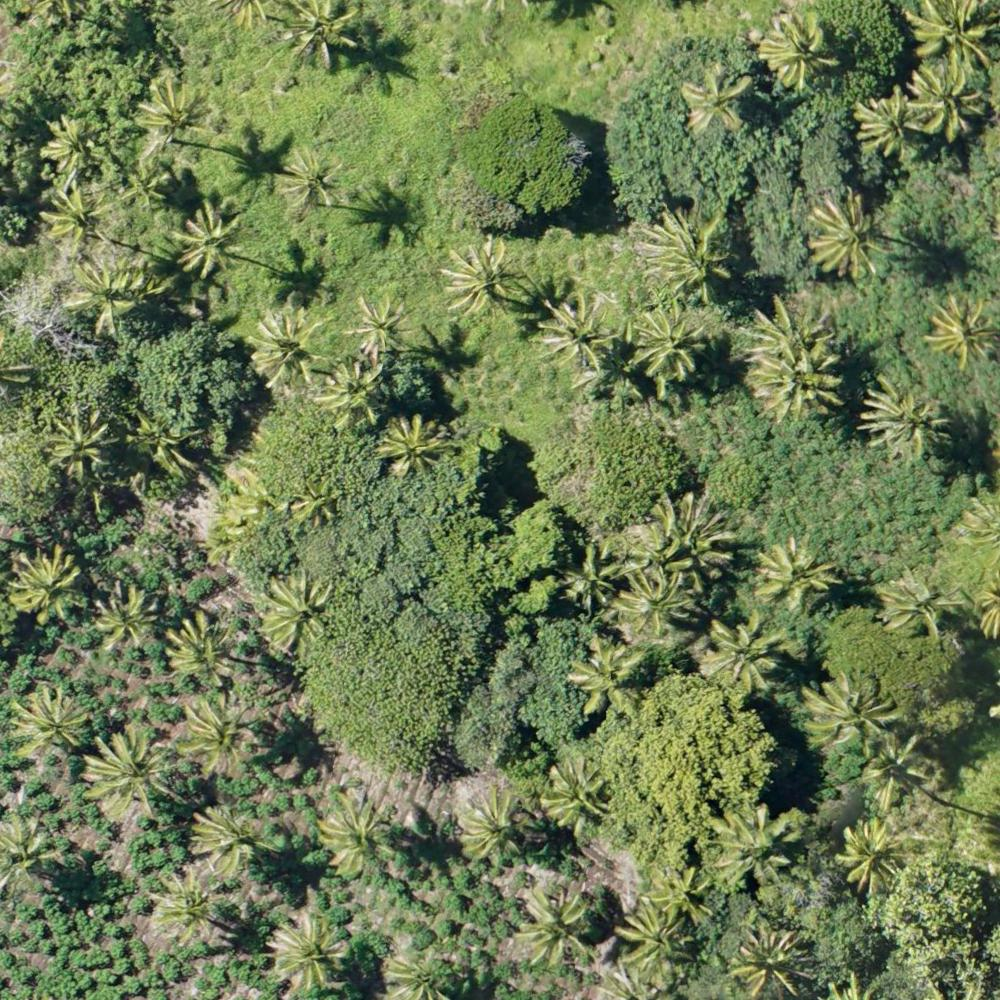Palm: (635, 207, 731, 301), (85, 732, 178, 826), (716, 805, 809, 891), (864, 368, 953, 457), (643, 492, 736, 576), (803, 674, 901, 752), (759, 343, 848, 422), (806, 191, 888, 276), (319, 789, 397, 877), (902, 1, 998, 72), (615, 896, 695, 978), (178, 695, 261, 773), (568, 636, 651, 714), (254, 573, 332, 655), (904, 65, 986, 143), (706, 618, 787, 696), (459, 786, 535, 869), (754, 293, 842, 364), (135, 79, 216, 155), (445, 242, 525, 318), (519, 885, 595, 964), (11, 686, 90, 762), (270, 911, 352, 984), (272, 1, 355, 73), (158, 612, 236, 688), (873, 569, 955, 641), (190, 805, 266, 882), (252, 308, 328, 385), (11, 547, 83, 628), (617, 564, 695, 638), (731, 924, 812, 995), (542, 297, 618, 371), (926, 294, 1000, 369), (38, 188, 114, 260), (634, 307, 707, 381), (539, 761, 614, 833), (174, 207, 247, 279), (68, 262, 142, 333), (758, 538, 833, 608), (763, 15, 838, 85), (153, 872, 225, 943), (837, 818, 902, 896), (868, 734, 936, 807), (678, 64, 751, 132), (93, 580, 162, 651), (1, 816, 61, 896), (276, 148, 346, 215), (850, 88, 916, 158), (561, 546, 625, 615), (324, 364, 389, 431), (378, 945, 457, 1000), (383, 417, 451, 478), (38, 113, 100, 179), (46, 412, 108, 474), (351, 296, 412, 355), (119, 166, 169, 217)
